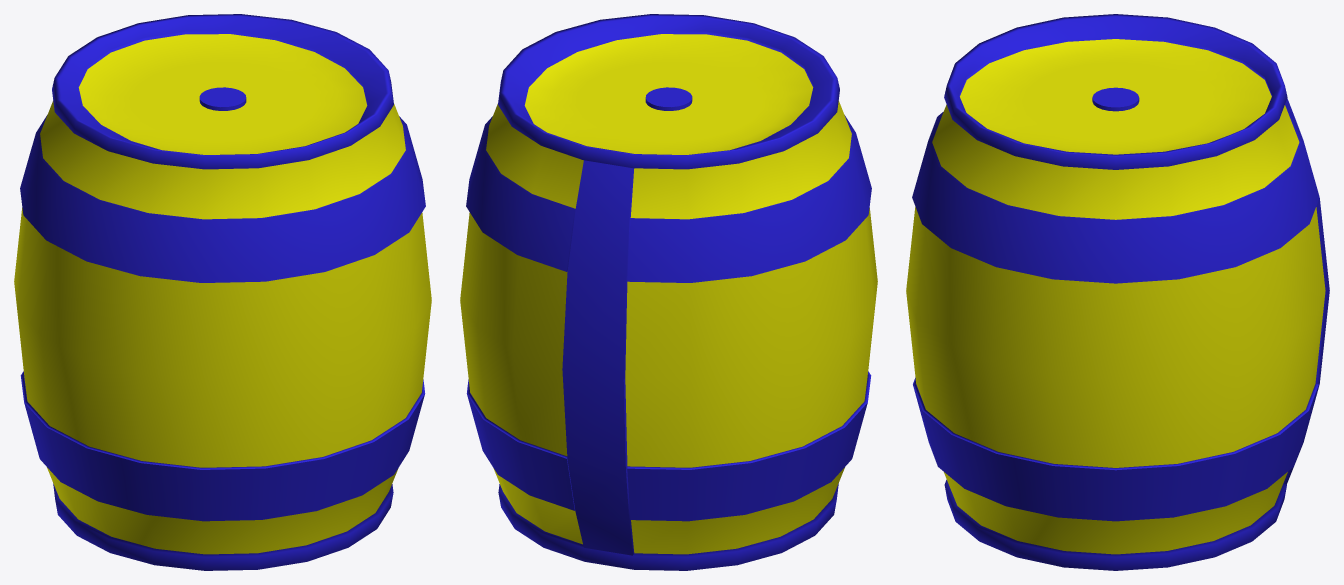
Rendered from Barrel.fbx.
3 views of the same model, side by side, from view 1: azimuth 30°, elevation 25°; view 2: azimuth 150°, elevation 25°; view 3: azimuth 270°, elevation 25° (orthographic).
Visible parts, largest first — view 1: pCylinder1; view 2: pCylinder1; view 3: pCylinder1.
Part boxes in pixels (left/top/right/bottom): pCylinder1: left=14, top=14, right=431, bottom=570; pCylinder1: left=460, top=14, right=877, bottom=570; pCylinder1: left=906, top=14, right=1329, bottom=570.
Size of the model in its own units: 182 by 199 by 184.
